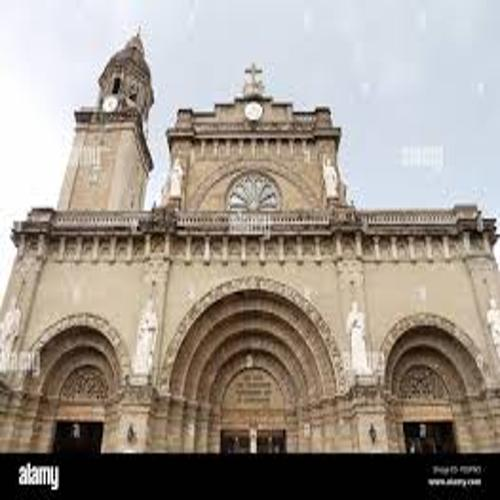Manila Cathedral Church: (3, 13, 499, 452)
